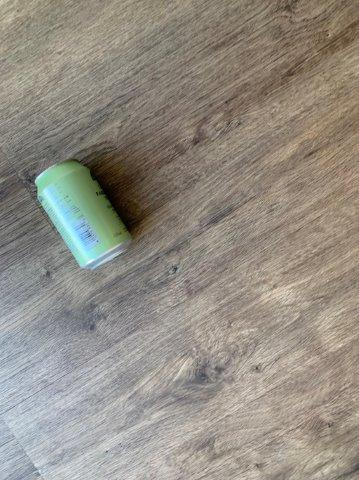kaleng: (35, 161, 130, 268)
